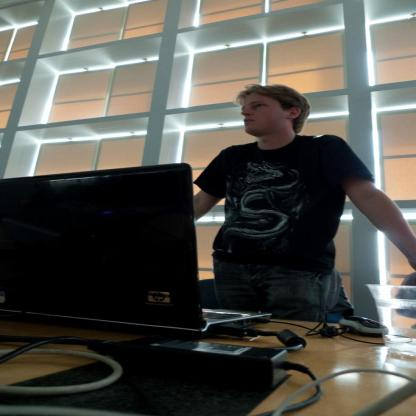board: (0, 162, 236, 356)
